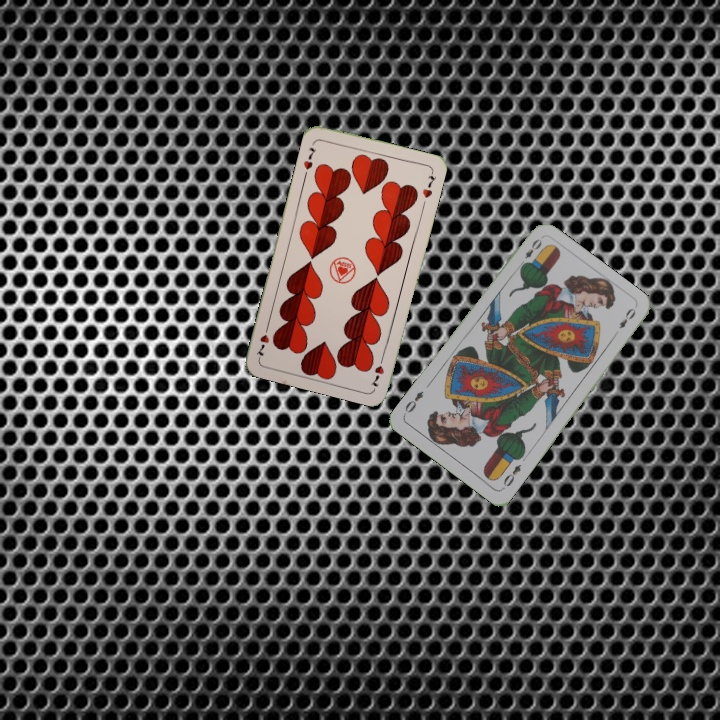EO: (515, 234, 545, 270), (499, 460, 524, 489)
H7: (367, 351, 387, 389), (299, 143, 319, 172)
